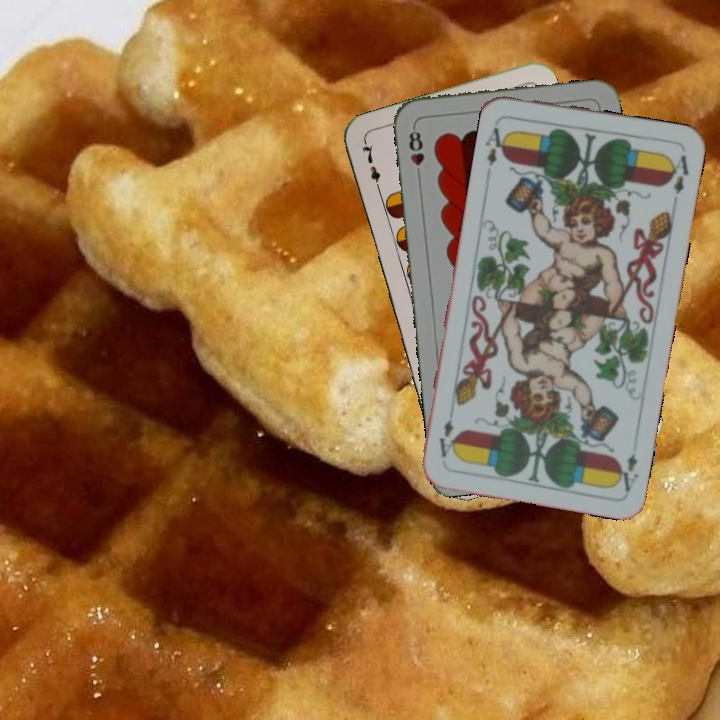E7: (358, 138, 384, 196)
EA: (482, 123, 512, 169), (612, 449, 641, 495)
H8: (405, 123, 427, 182)
